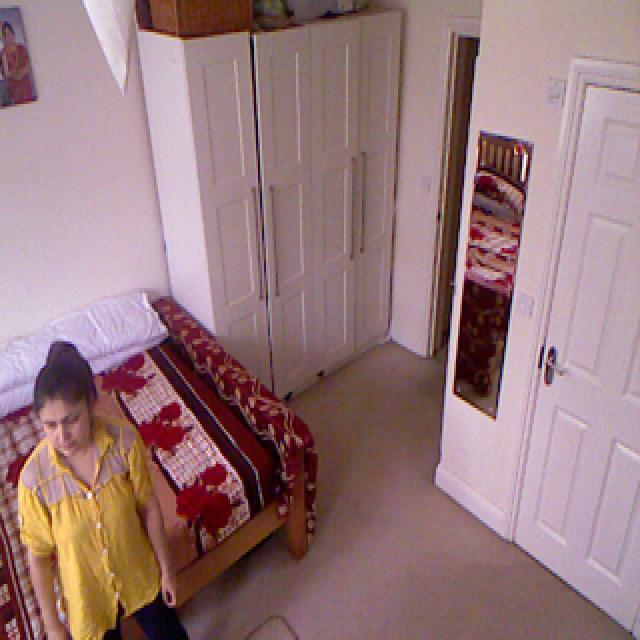standing: (9, 327, 204, 640)
